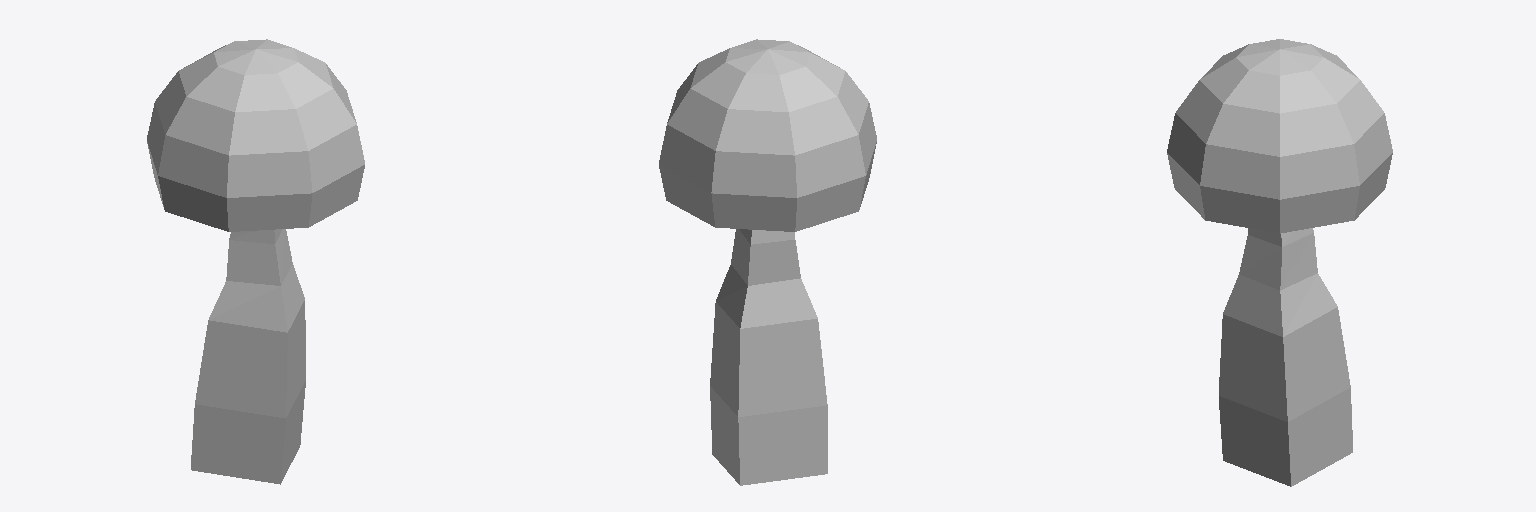
Rendered from smallmushroom2.obj.
3 renders of one model, left to right at view 1: azimuth 30°, elevation 25°; view 2: azimuth 150°, elevation 25°; view 3: azimuth 270°, elevation 25°, orthographic.
Parts seen in each view (by area): view 1: Sphere_Sphere.001, Cube_Cube.001; view 2: Sphere_Sphere.001, Cube_Cube.001; view 3: Sphere_Sphere.001, Cube_Cube.001.
Boxes of the visible parts, <box> form: Sphere_Sphere.001: <box>147,39,364,231</box>; Cube_Cube.001: <box>191,229,305,484</box>; Sphere_Sphere.001: <box>659,39,876,231</box>; Cube_Cube.001: <box>710,229,827,485</box>; Sphere_Sphere.001: <box>1167,39,1392,233</box>; Cube_Cube.001: <box>1219,228,1352,486</box>.
Bounding box in the file's own units: 2.24 × 4.52 × 2.24.